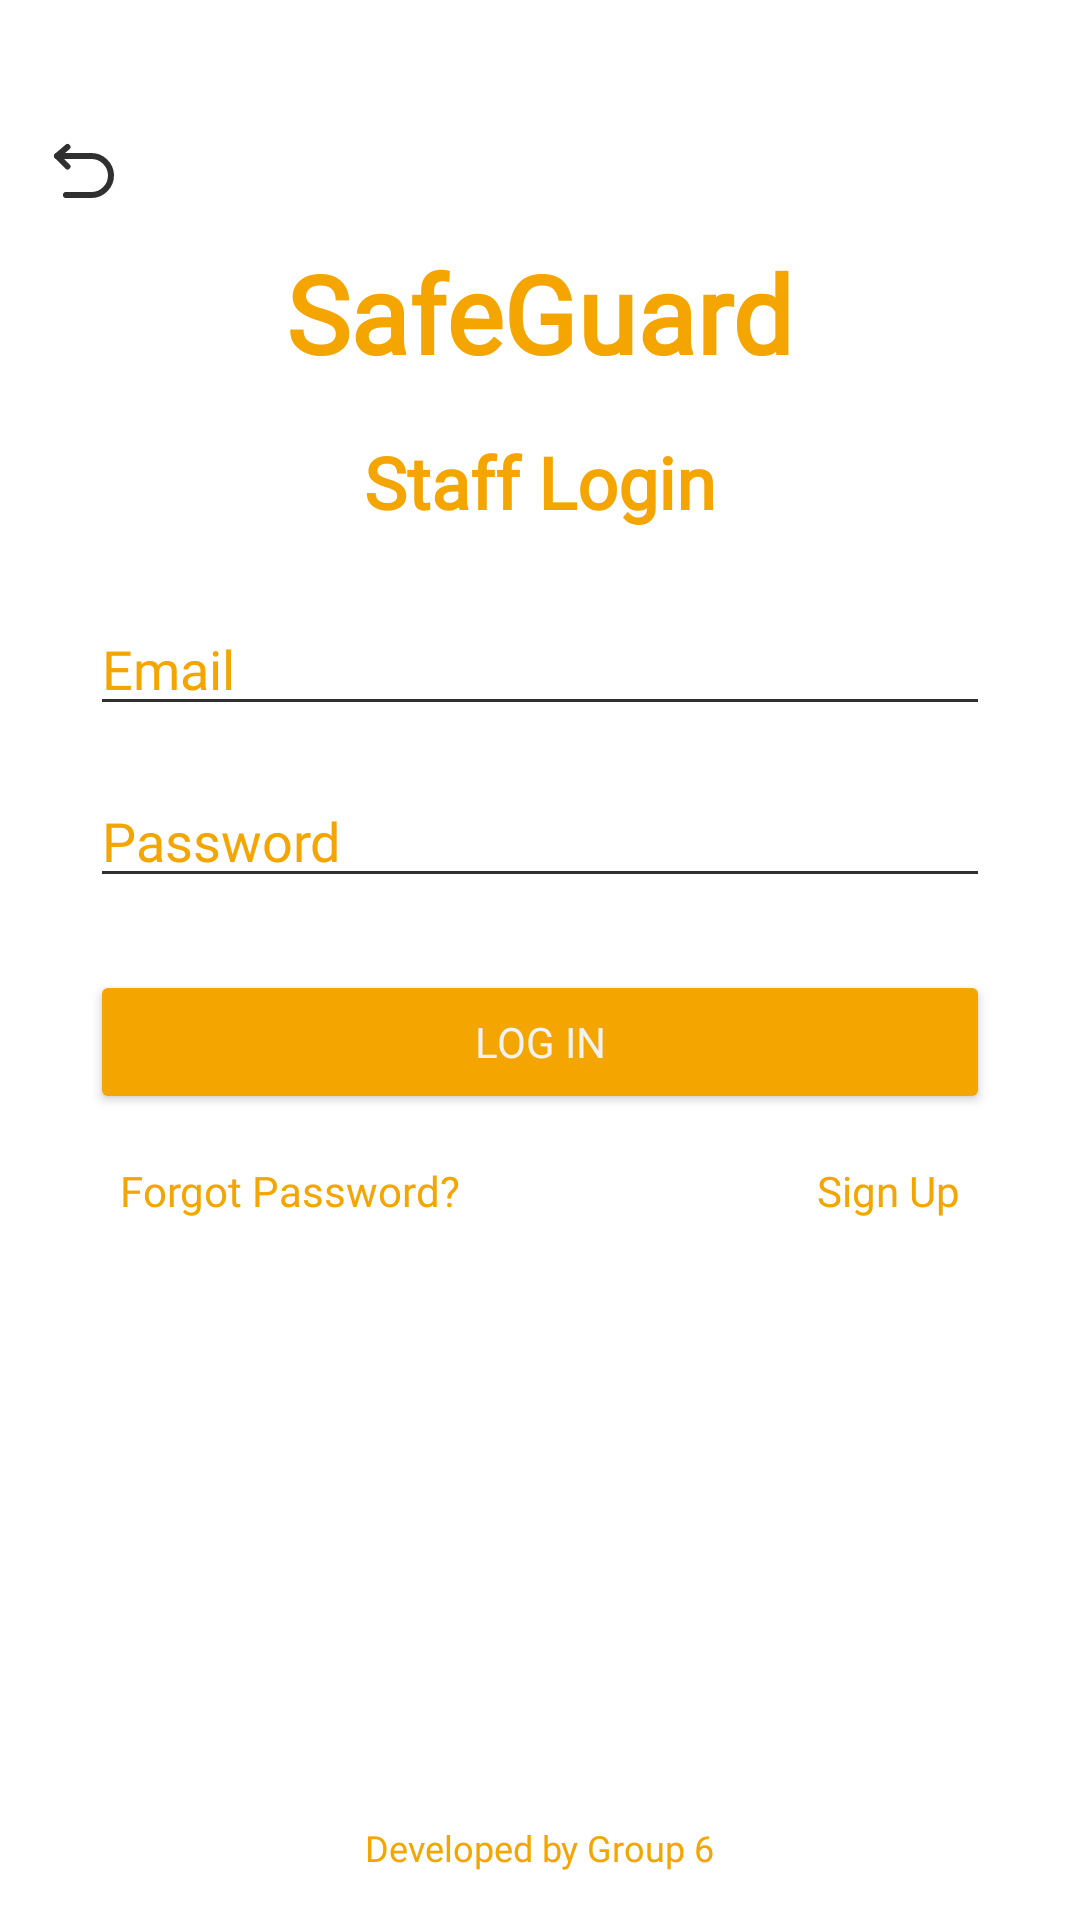

Icon click points for this 1080*1920 phone screenshot, format (x=x, y=y):
Back: (x=83, y=170)
